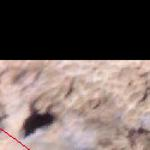alive: (3, 63, 147, 148)
